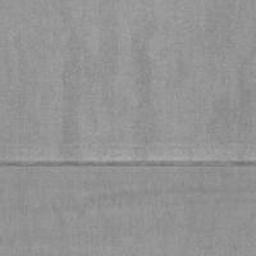Welding line: (0, 159, 256, 169)
